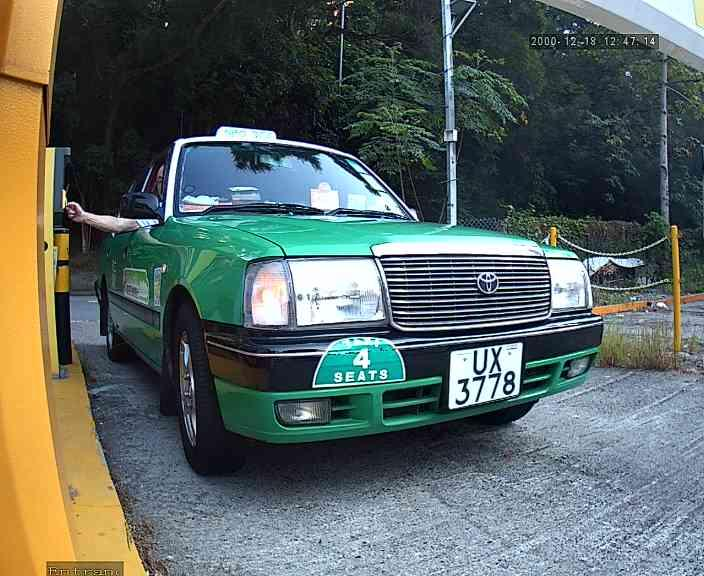Car: (60, 11, 610, 499)
License Plate: (437, 343, 525, 412)
